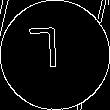L_S: (38, 29, 72, 81)
